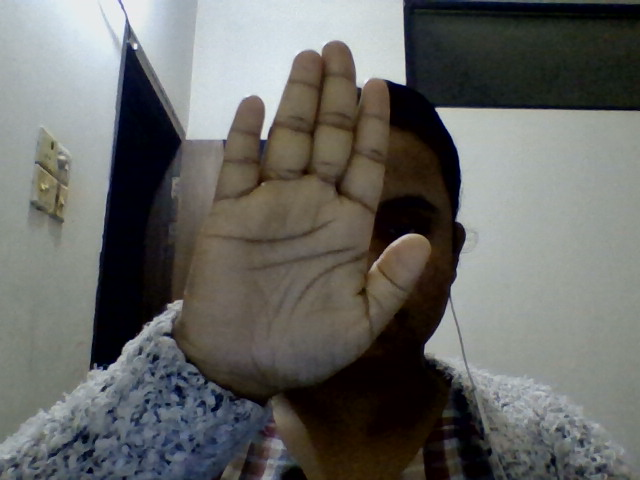hello: (179, 9, 484, 408)
